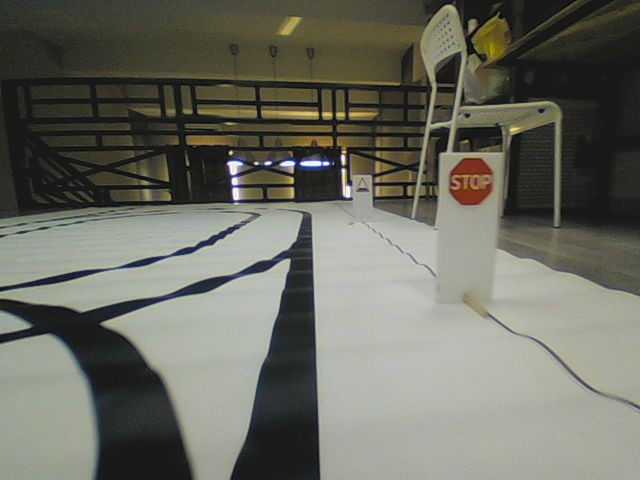Nerov: (355, 177, 370, 193)
Stop: (447, 156, 494, 207)
